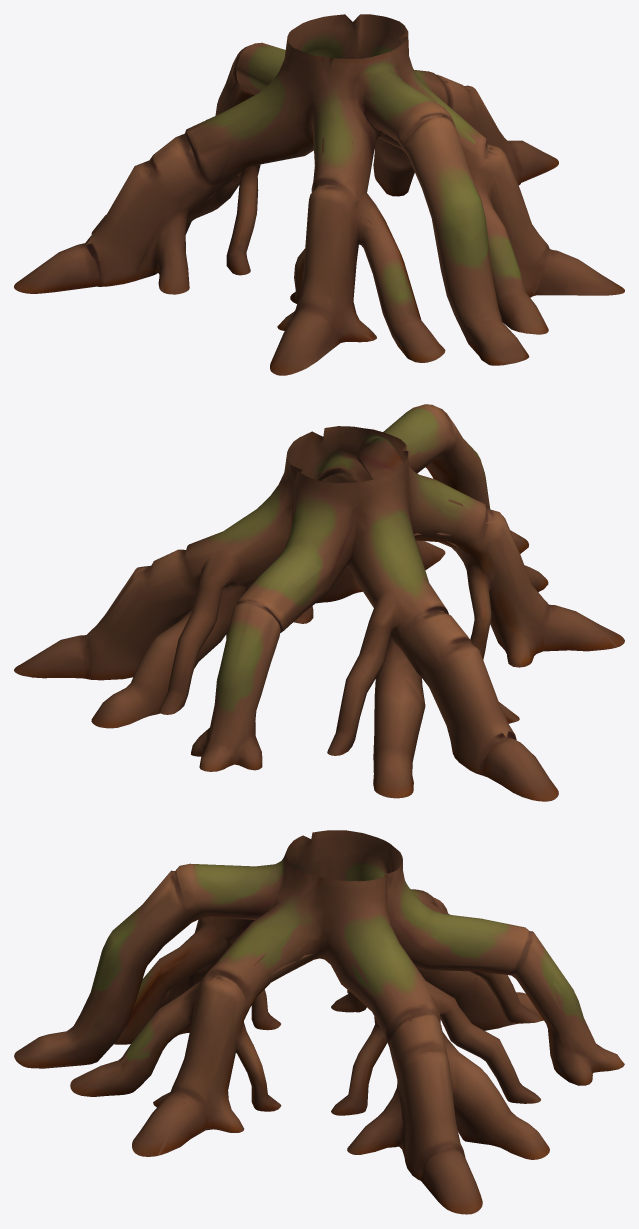
The model's file is Roots_B.fbx.
The picture shows the model from 3 angles, top to bottom: view 1: azimuth 30°, elevation 25°; view 2: azimuth 150°, elevation 25°; view 3: azimuth 270°, elevation 25°; orthographic projection.
Parts seen in each view (by area): view 1: Roots_B; view 2: Roots_B; view 3: Roots_B.
Part boxes in pixels (box(x1,y1,x2,y2)): Roots_B: box(14, 14, 624, 375); Roots_B: box(14, 404, 624, 801); Roots_B: box(14, 830, 624, 1214).
Bounding box in the file's own units: 3.8 × 1.59 × 3.8.
